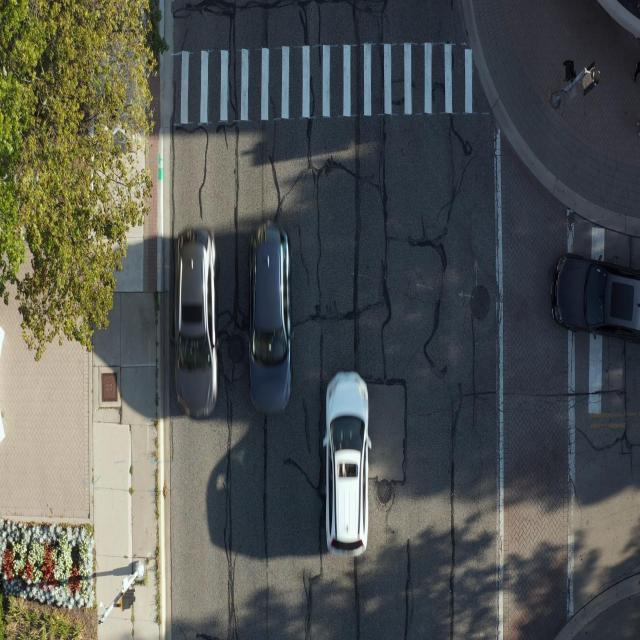Car: (320, 370, 377, 562), (171, 219, 221, 423), (245, 223, 297, 418), (545, 247, 640, 346)
